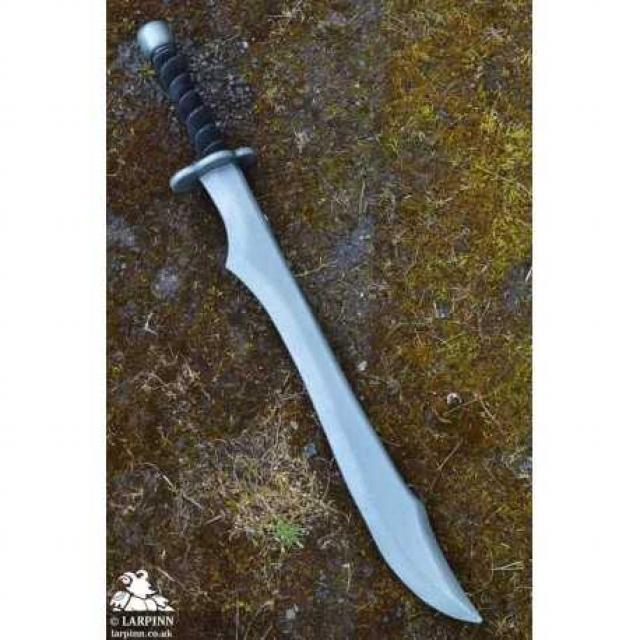short sword: (121, 12, 496, 632)
